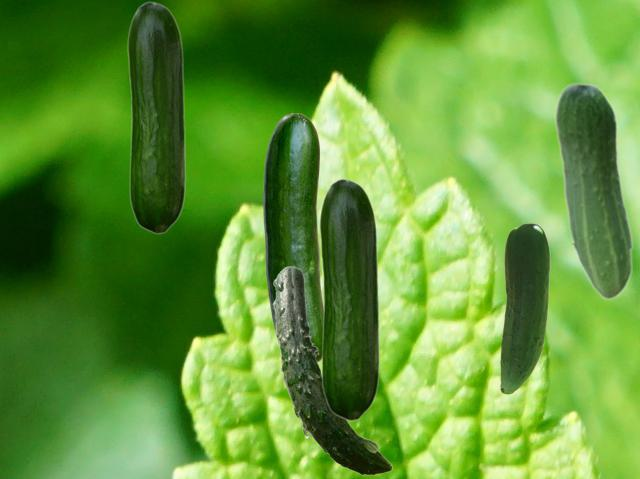cucumber: (272, 266, 391, 474), (554, 81, 633, 299), (263, 113, 322, 362), (319, 178, 379, 420), (127, 1, 185, 233), (500, 223, 549, 393)
